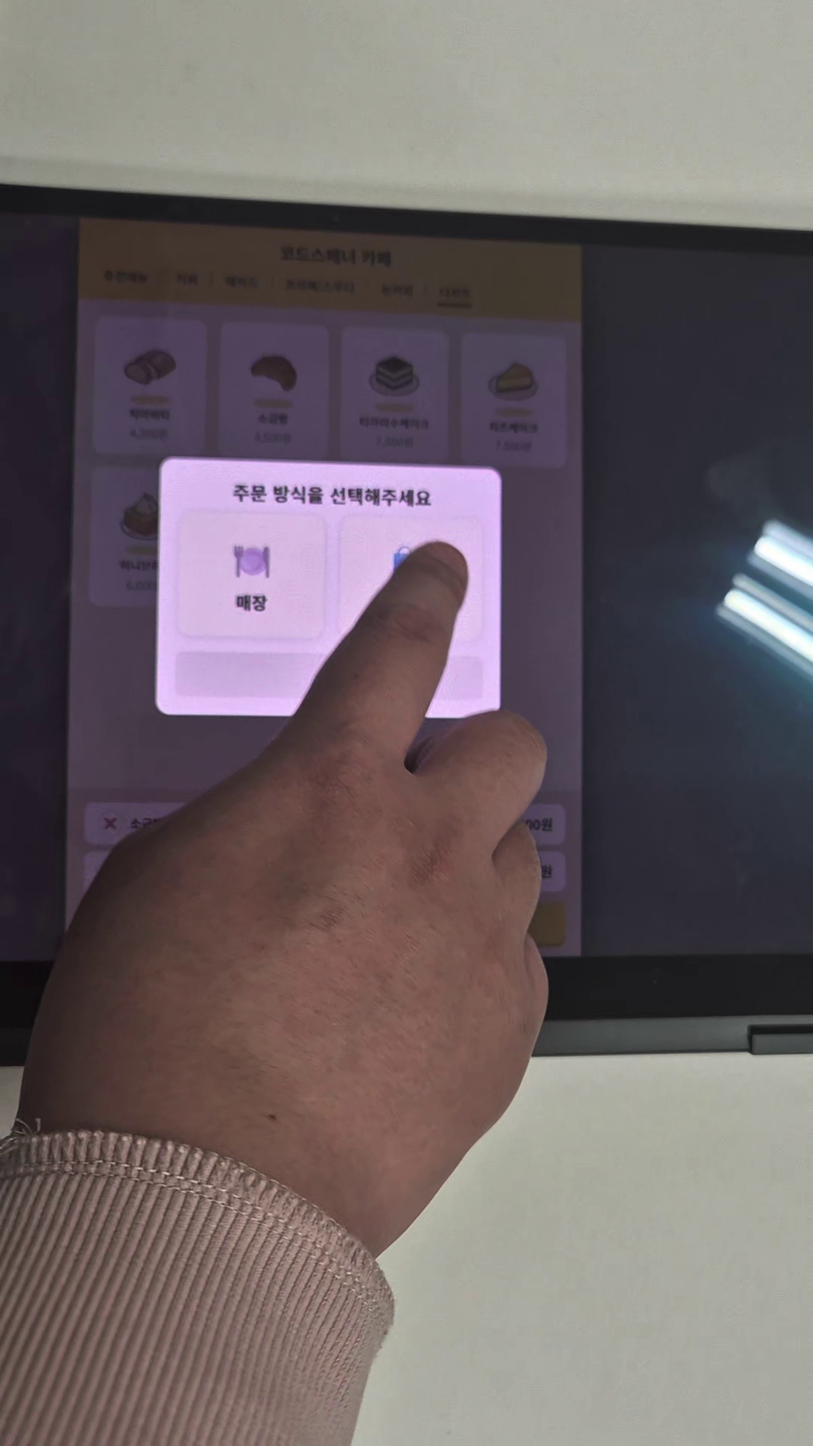action_button: (178, 653, 487, 699)
option_button: (181, 512, 322, 639), (342, 516, 482, 640)
popup_modal: (155, 460, 499, 719)
